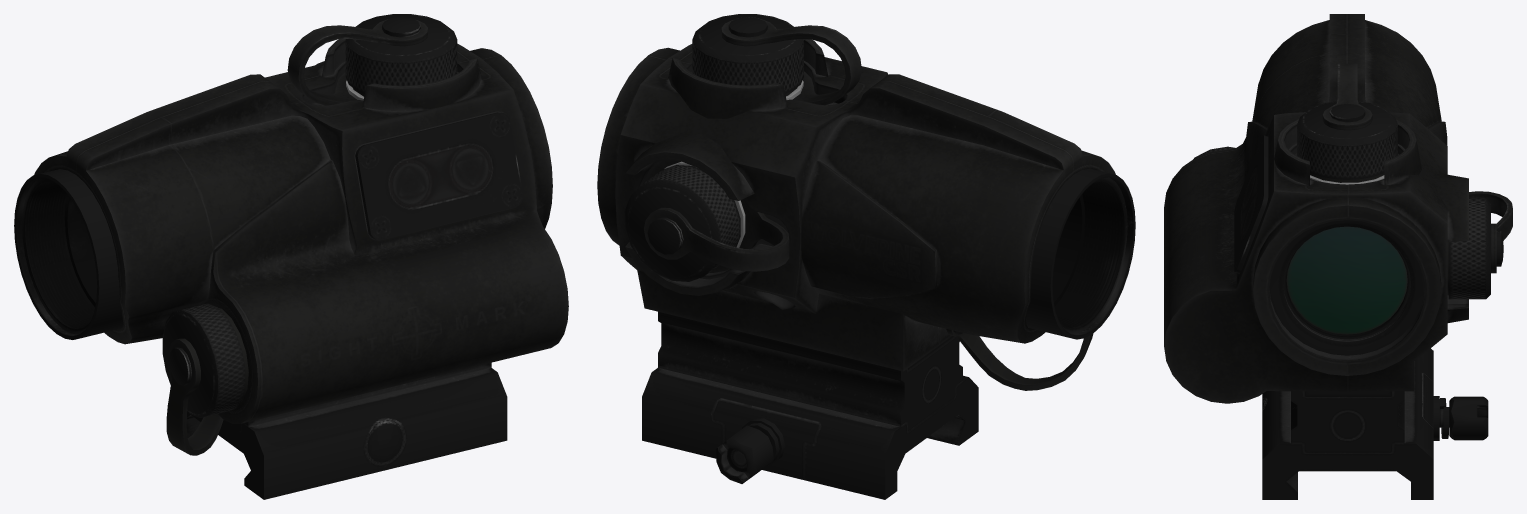
3 renders of one model, left to right at view 1: azimuth 30°, elevation 25°; view 2: azimuth 150°, elevation 25°; view 3: azimuth 270°, elevation 25°, orthographic. The views are drawn at different scales.
Visible parts, largest first — view 1: CSR _CSR_0; view 2: CSR _CSR_0; view 3: CSR _CSR_0, CSR _CSR_Glass_0.
Part boxes in pixels (<box>): CSR _CSR_0: <box>14,14,568,499</box>; CSR _CSR_0: <box>597,14,1135,499</box>; CSR _CSR_0: <box>1164,14,1512,499</box>; CSR _CSR_Glass_0: <box>1286,226,1407,334</box>.
Bounding box in the file's own units: 0.0832 × 0.0729 × 0.0617.
3 materials, 2 textured.
